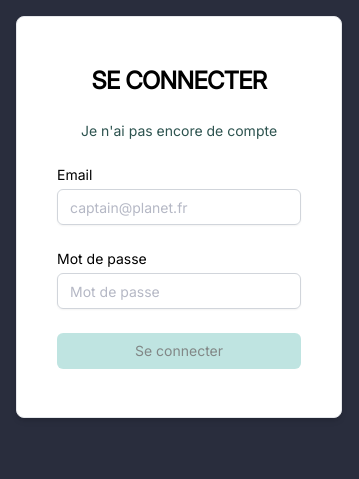
Test case: LoginPage - Integration Tests › should not login with invalid credentials
Type "wrong@example.com" into the field labelled "Email" at (179, 207), box [57, 189, 301, 225]
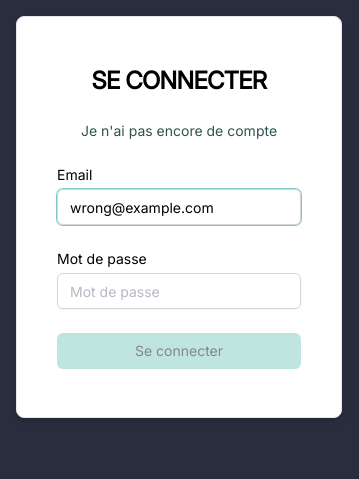
Type "WrongPass123!" into the password field labelled "Mot de passe" at (179, 291), box [57, 273, 301, 309]
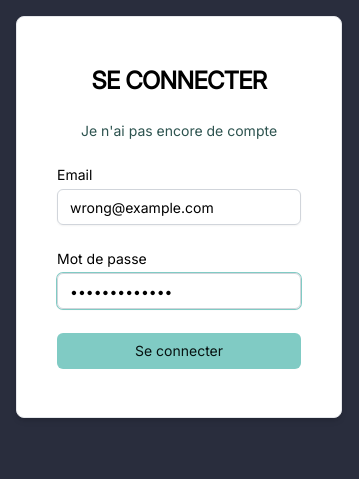
Click the button "Se connecter" at (179, 351), box [57, 333, 301, 369]
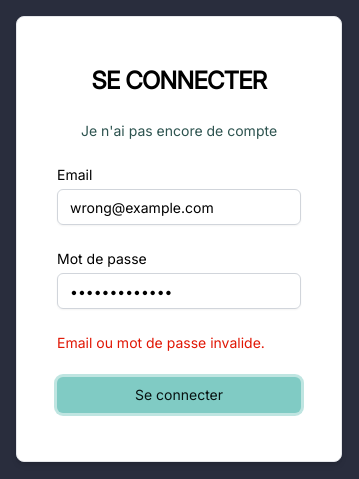
Expected: the text "Email ou mot de passe invalide." is shown, [57, 333, 265, 353]
